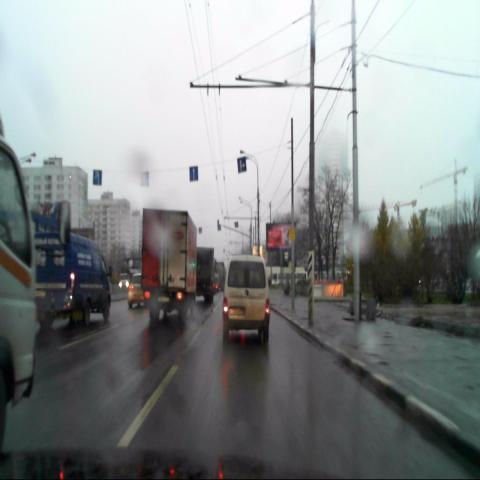5_15_2: (236, 156, 246, 174), (92, 170, 102, 185), (189, 166, 198, 182)
